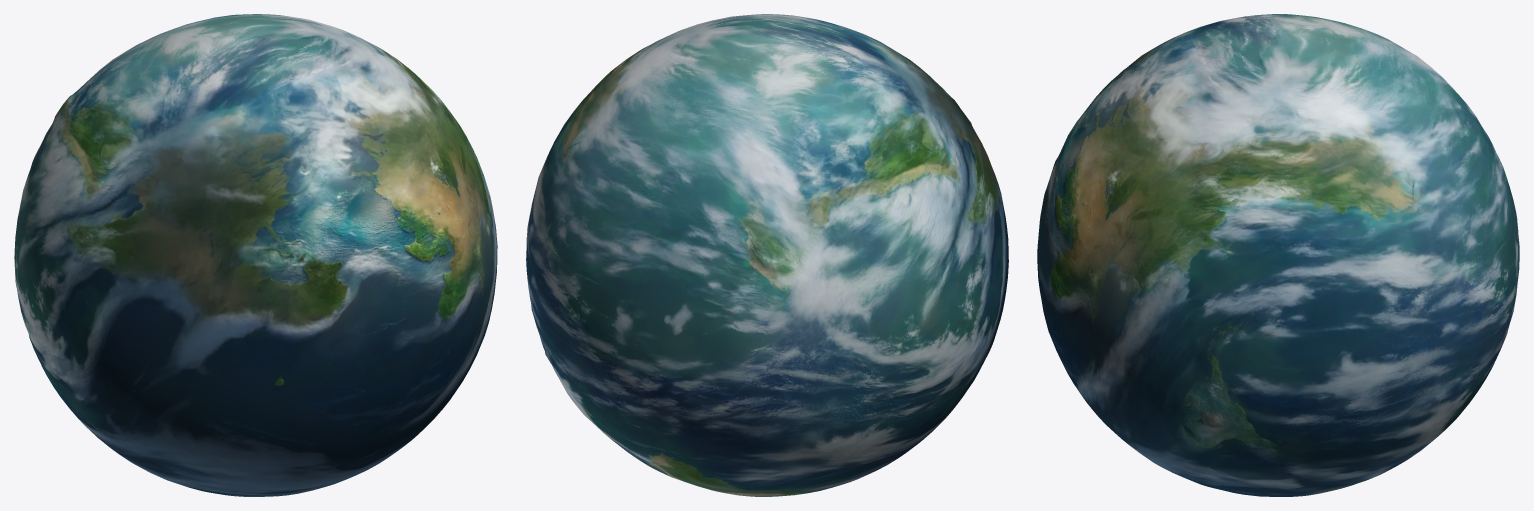
File: normal_planet_1.glb
The picture shows the model from 3 angles, left to right: view 1: azimuth 30°, elevation 25°; view 2: azimuth 150°, elevation 25°; view 3: azimuth 270°, elevation 25°; orthographic projection.
Parts seen in each view (by area): view 1: Mesh_0.038; view 2: Mesh_0.038; view 3: Mesh_0.038.
Boxes of the visible parts, x1,y1,x2,y2 form: Mesh_0.038: [14, 14, 497, 496]; Mesh_0.038: [526, 14, 1008, 496]; Mesh_0.038: [1037, 14, 1519, 496].
Bounding box in the file's own units: 2 × 2 × 2.
1 material, 1 textured.
